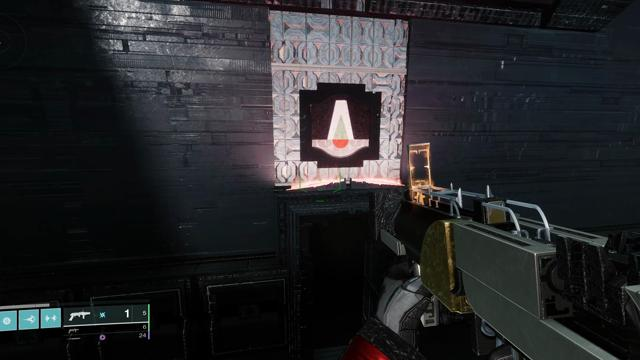enter: (310, 95, 370, 157)
